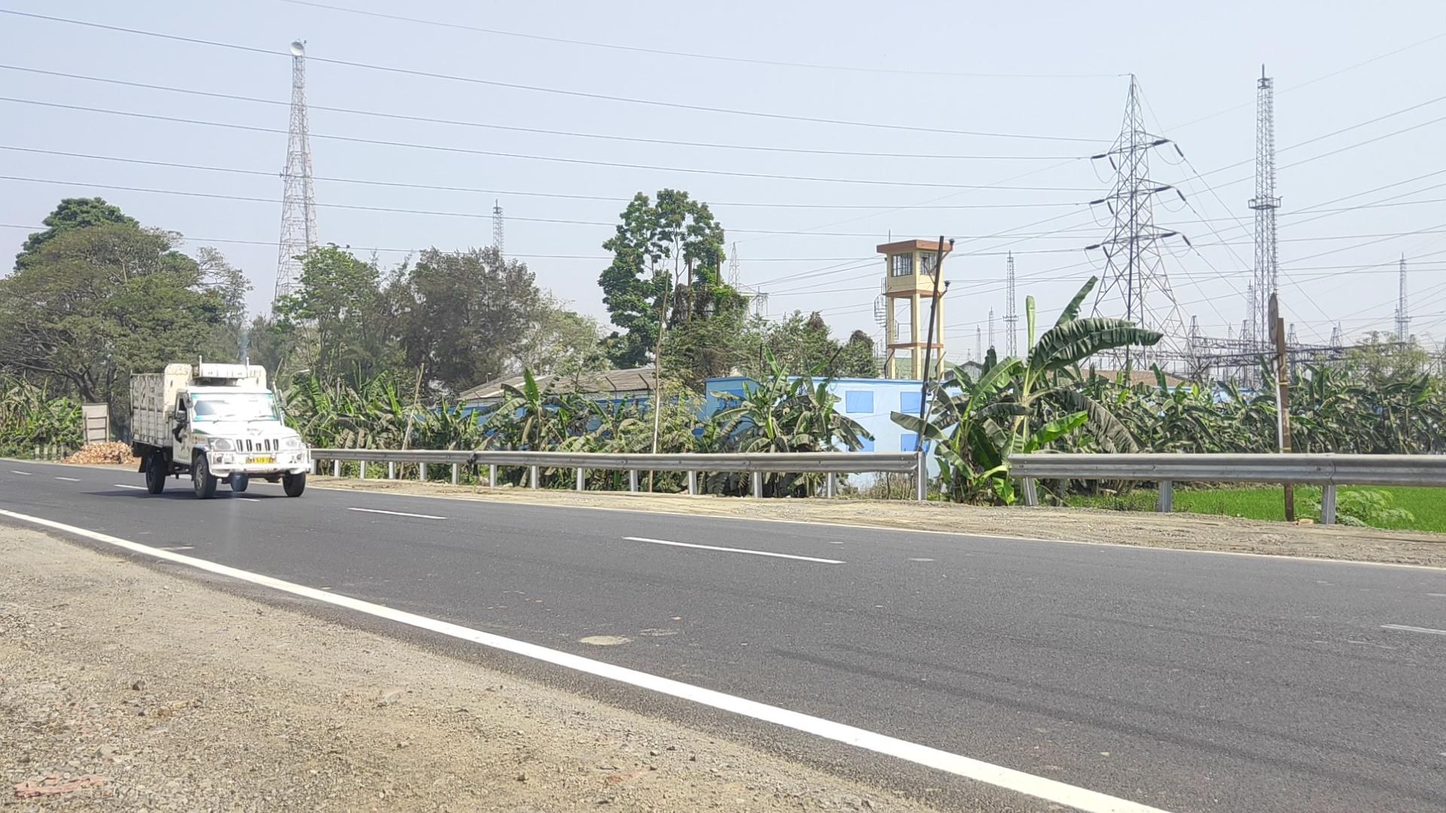van: (129, 355, 312, 498)
